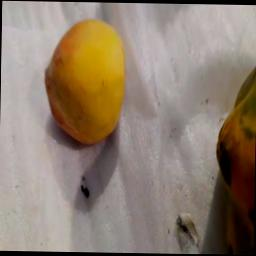Peach Unripe: (30, 14, 138, 168)
